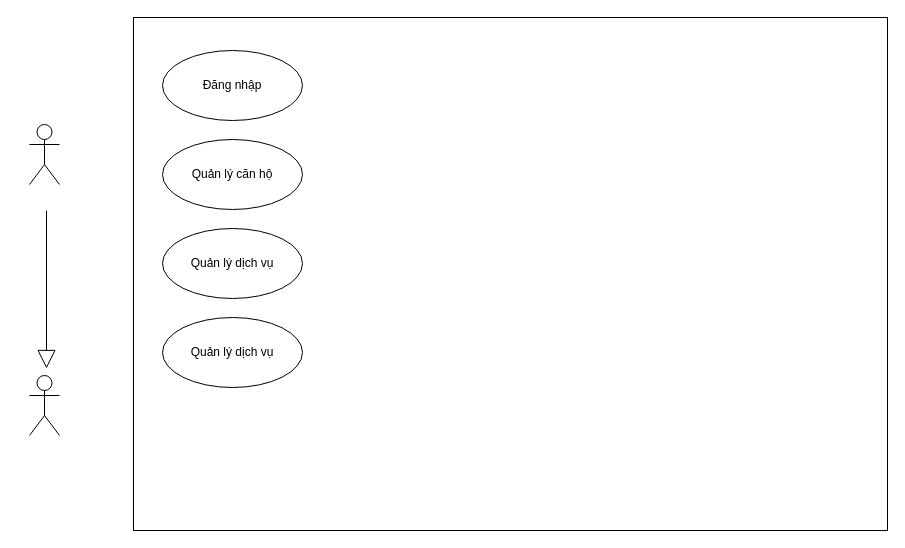
This 905x548 diagram has some shape labels left out. Each missing label, with the box of its shape:
ADMIN: (28, 374, 60, 436)
Nhân viên: (28, 124, 60, 184)
